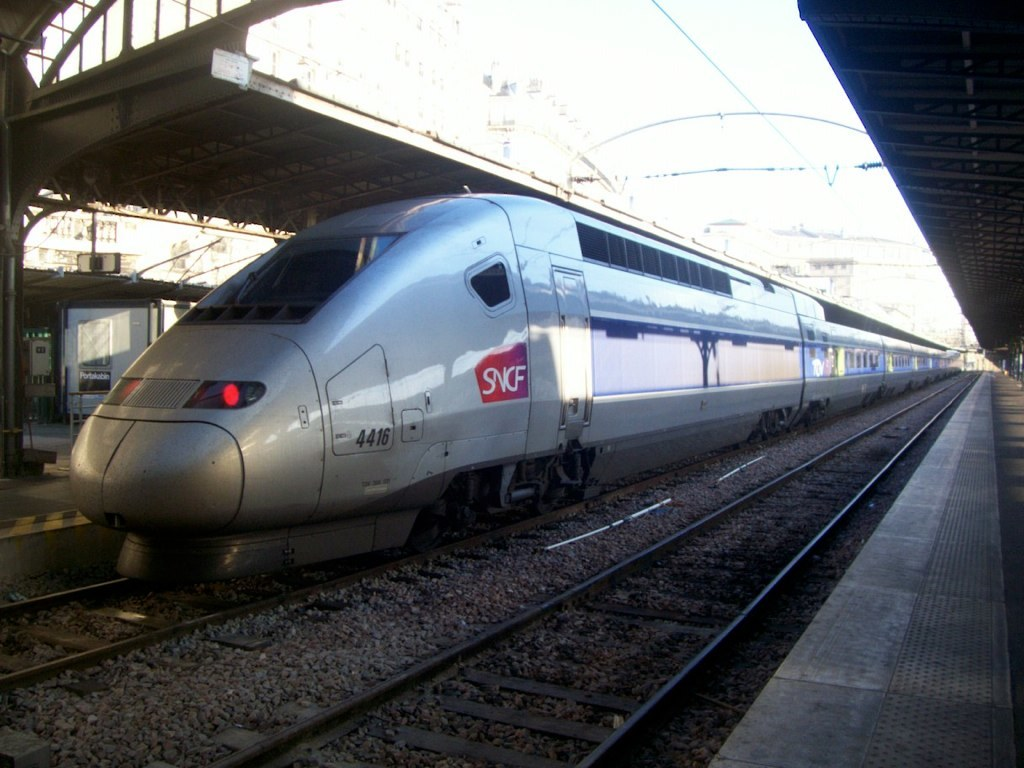train: (69, 177, 967, 589)
